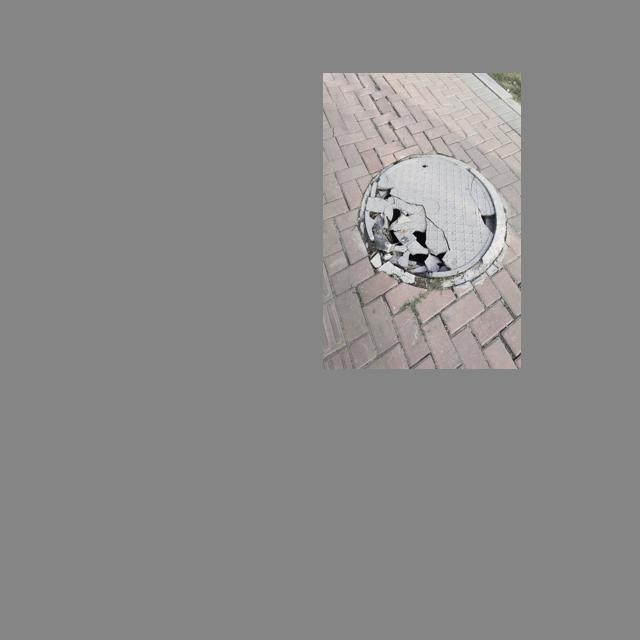broke: (347, 144, 514, 297)
